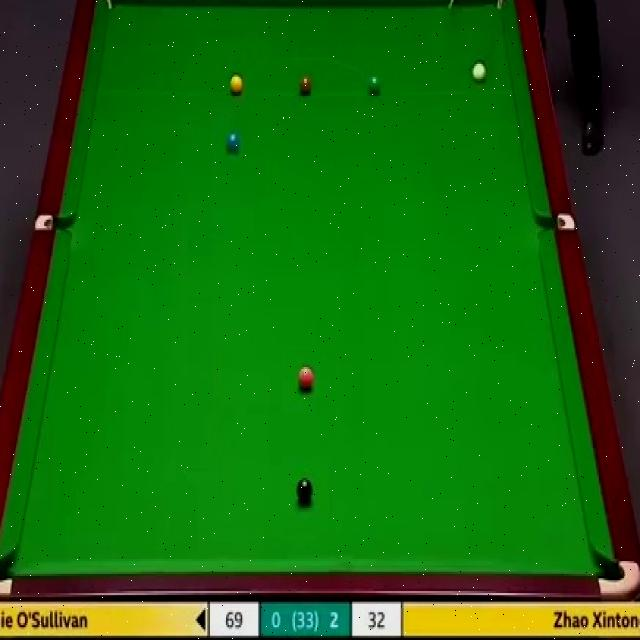black-ball: (297, 477, 313, 505)
blue-ball: (225, 132, 241, 155)
brown-ball: (298, 77, 312, 94)
green-ball: (368, 72, 382, 98)
pink-ball: (297, 364, 315, 394)
white-ball: (471, 59, 488, 81)
yellow-ball: (228, 74, 244, 95)
